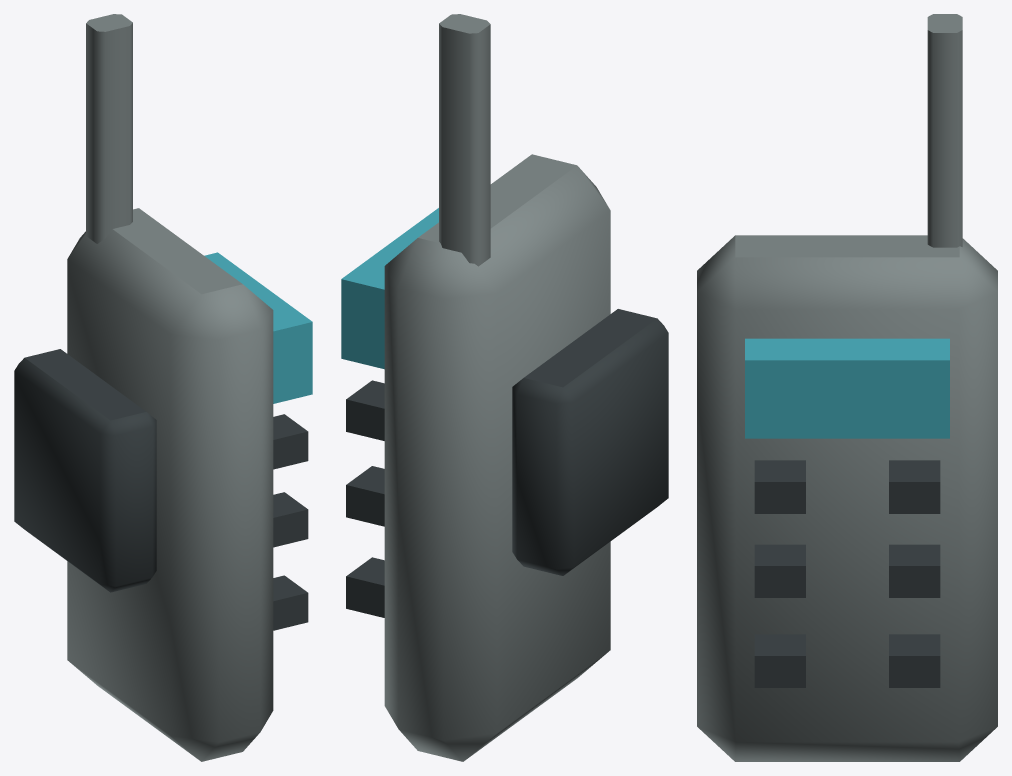
Rendered from person_tool_tornado.obj.
3 renders of one model, left to right at view 1: azimuth 30°, elevation 25°; view 2: azimuth 150°, elevation 25°; view 3: azimuth 270°, elevation 25°, orthographic. The views are drawn at different scales.
Parts seen in each view (by area): view 1: main_casing, body_interface_unchanged, part_088_utility_steel, part_100_utility_cyan, part_136_utility_dark, part_160_utility_dark, part_112_utility_dark; view 2: main_casing, body_interface_unchanged, part_088_utility_steel, part_100_utility_cyan, part_124_utility_dark, part_148_utility_dark, part_172_utility_dark; view 3: main_casing, part_100_utility_cyan, part_088_utility_steel, part_112_utility_dark, part_124_utility_dark, part_160_utility_dark, part_172_utility_dark, part_136_utility_dark, part_148_utility_dark.
Boxes of the visible parts, x1=… form: main_casing: x1=67, y1=208, x2=273, y2=761; body_interface_unchanged: x1=14, y1=349, x2=156, y2=592; part_088_utility_steel: x1=86, y1=14, x2=132, y2=243; part_100_utility_cyan: x1=204, y1=252, x2=312, y2=403; part_136_utility_dark: x1=273, y1=492, x2=308, y2=547; part_160_utility_dark: x1=273, y1=414, x2=308, y2=469; part_112_utility_dark: x1=273, y1=575, x2=308, y2=630; main_casing: x1=384, y1=154, x2=610, y2=761; body_interface_unchanged: x1=512, y1=309, x2=668, y2=575; part_088_utility_steel: x1=439, y1=14, x2=490, y2=266; part_100_utility_cyan: x1=341, y1=208, x2=438, y2=369; part_124_utility_dark: x1=346, y1=557, x2=384, y2=617; part_148_utility_dark: x1=346, y1=466, x2=384, y2=526; part_172_utility_dark: x1=346, y1=380, x2=384, y2=440; main_casing: x1=697, y1=235, x2=997, y2=761; part_100_utility_cyan: x1=745, y1=338, x2=949, y2=438; part_088_utility_steel: x1=927, y1=14, x2=962, y2=247; part_112_utility_dark: x1=754, y1=634, x2=805, y2=687; part_124_utility_dark: x1=889, y1=634, x2=940, y2=687; part_160_utility_dark: x1=754, y1=460, x2=805, y2=513; part_172_utility_dark: x1=889, y1=460, x2=940, y2=513; part_136_utility_dark: x1=754, y1=544, x2=805, y2=597; part_148_utility_dark: x1=889, y1=544, x2=940, y2=597.
Bounding box in the file's own units: 0.081 × 0.248 × 0.094.
